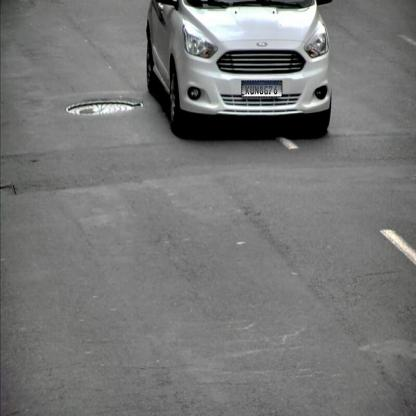PlacaM: (242, 80, 282, 97)
